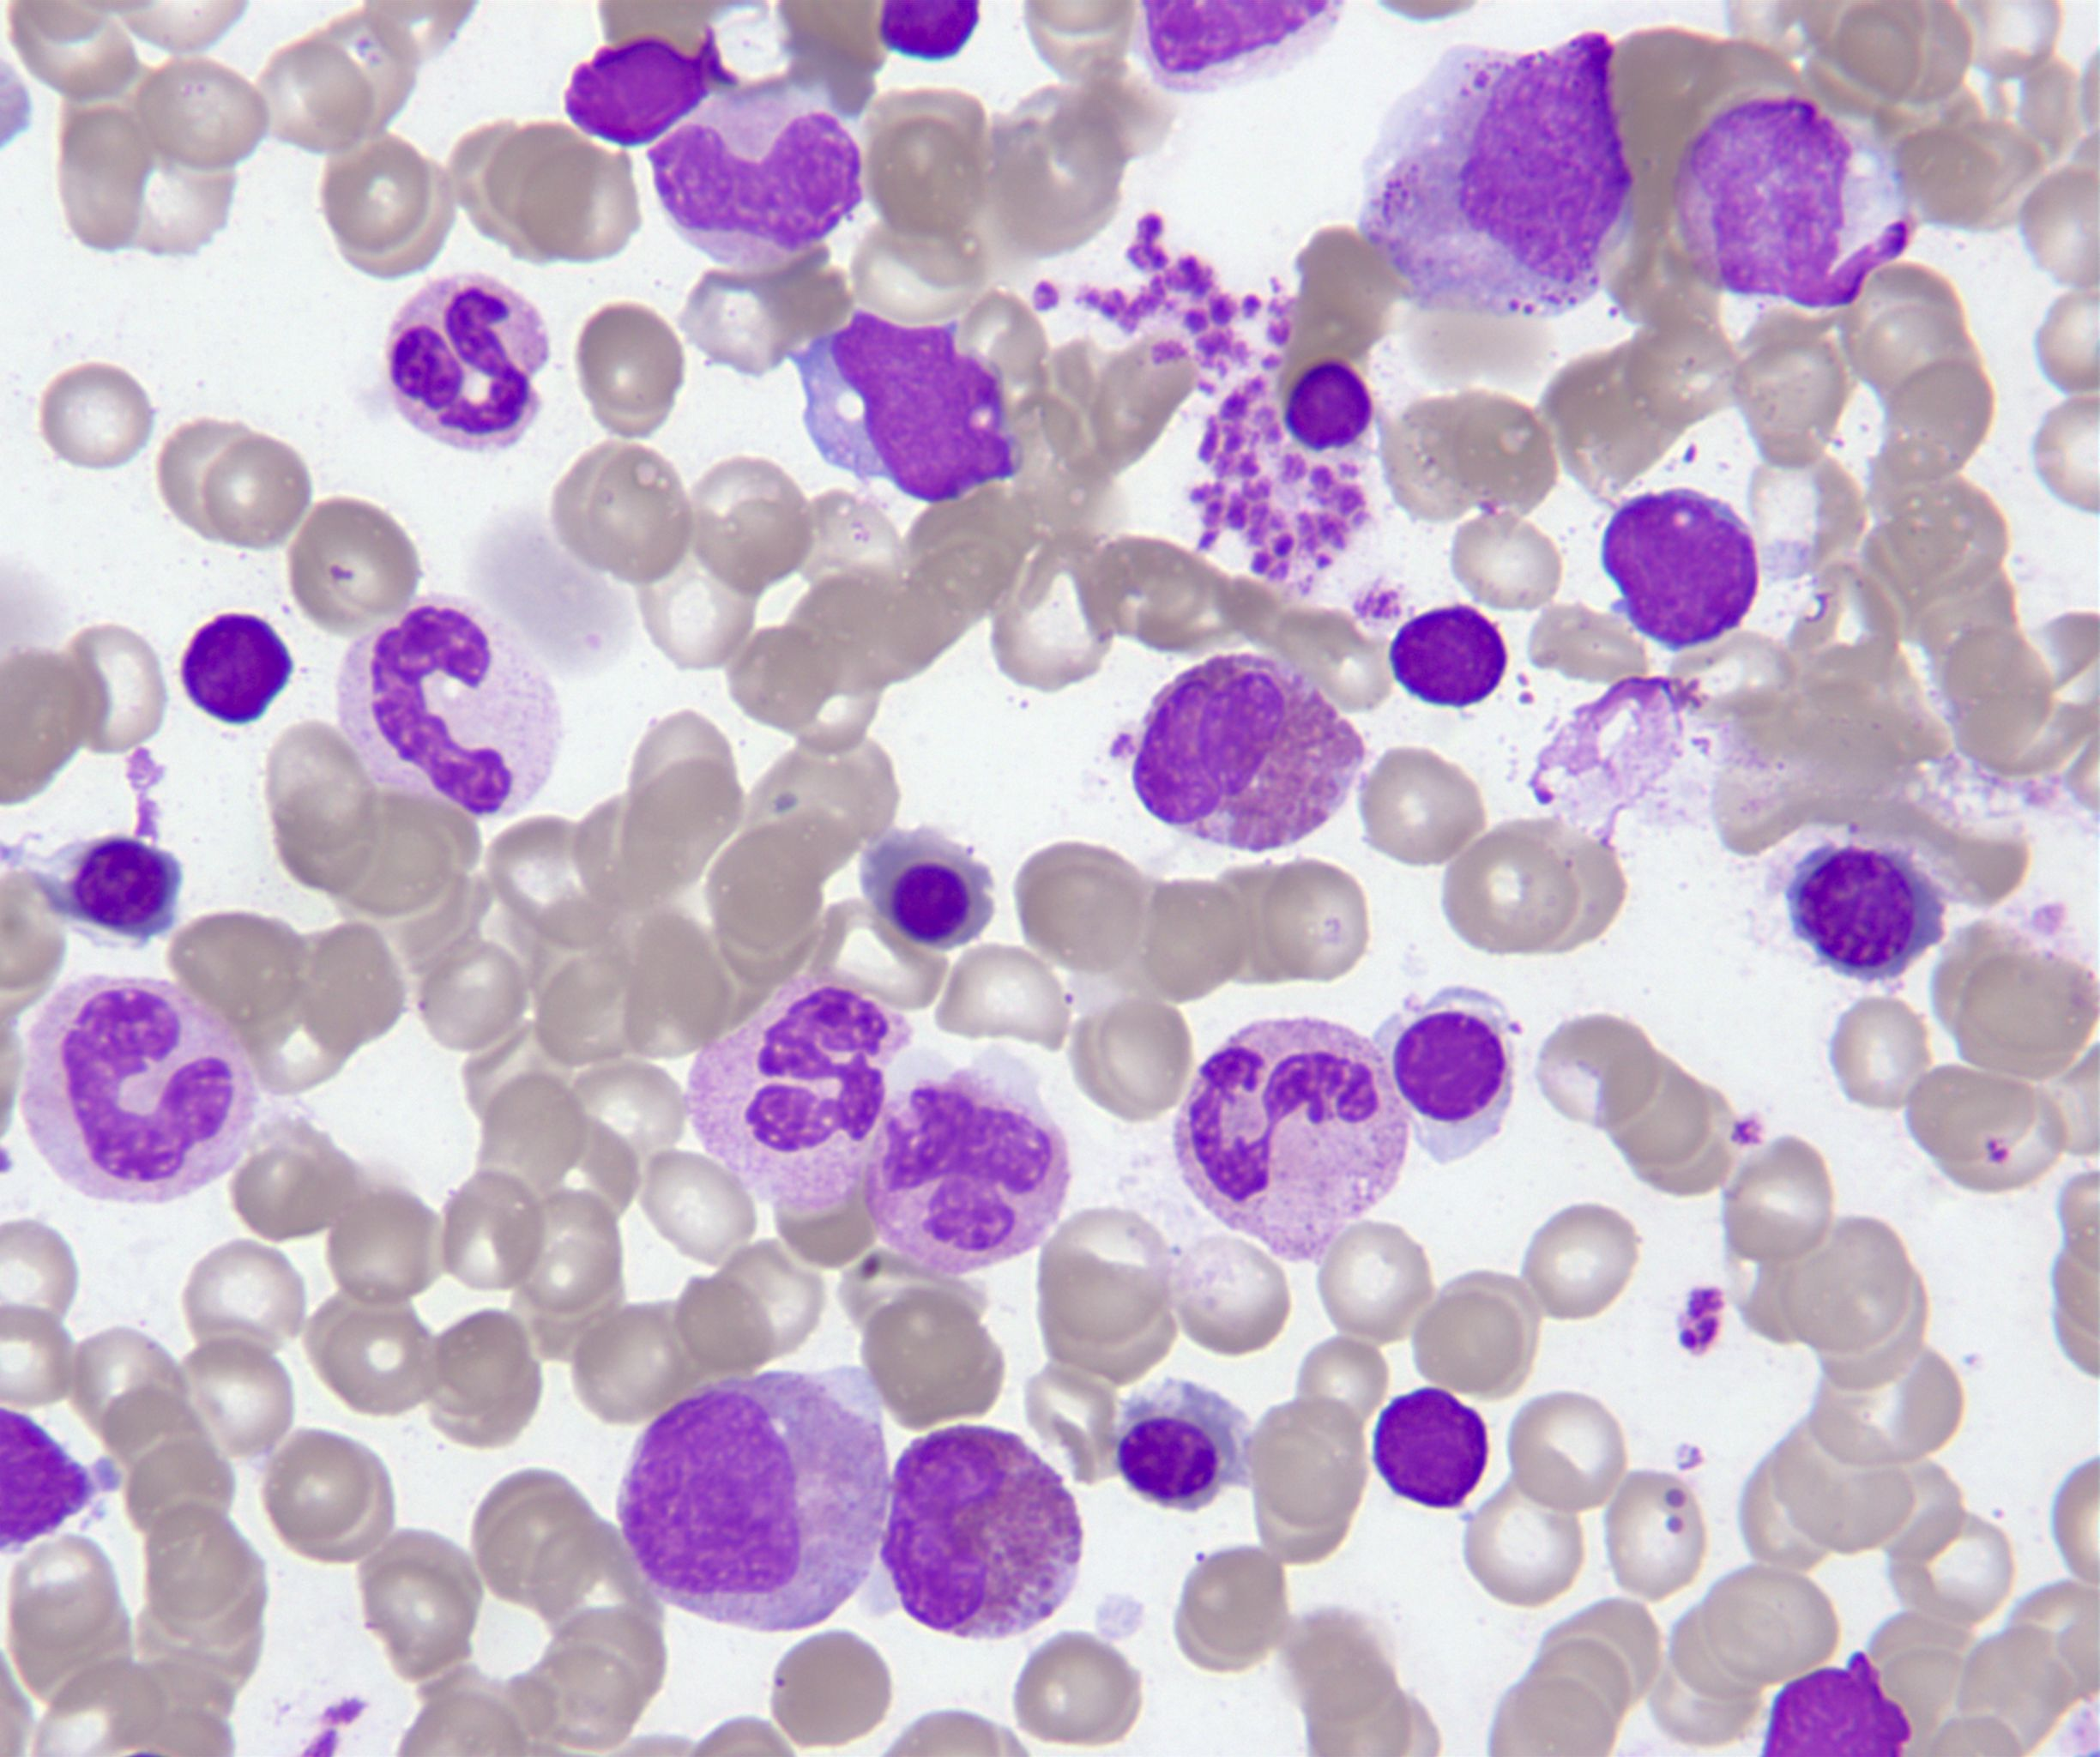1: (778, 304, 1029, 511)
24: (1364, 982, 1530, 1174), (1783, 834, 1952, 988), (1101, 1370, 1252, 1523), (855, 818, 999, 956), (63, 831, 192, 947)
3: (1352, 26, 1643, 323), (612, 1357, 895, 1640)
32: (1591, 480, 1769, 656), (1360, 1380, 1497, 1516), (169, 609, 302, 726)
4: (638, 84, 872, 279)
5: (10, 968, 265, 1214), (331, 583, 569, 827)
6: (1170, 1014, 1416, 1270), (677, 968, 916, 1223), (855, 1035, 1078, 1282), (380, 265, 556, 459)
E1: (877, 1424, 1088, 1645)
E4: (1123, 640, 1373, 862)
x: (1666, 87, 1922, 314), (1380, 597, 1516, 719), (1270, 349, 1390, 462)
